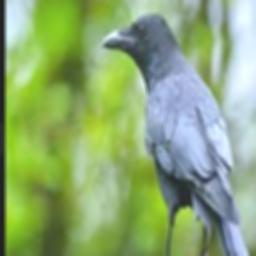Crow: (101, 13, 256, 256)
